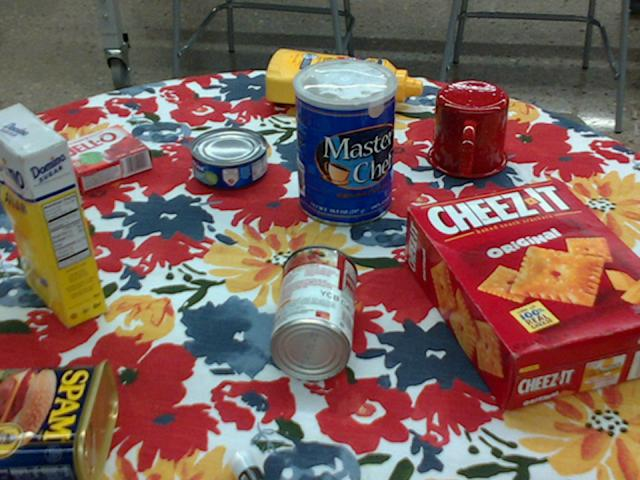cracker_box: (404, 179, 639, 413)
gelatin_box: (48, 127, 150, 194)
large_marker: (227, 449, 265, 479)
master_chef_can: (294, 59, 398, 227)
mug: (426, 81, 509, 179)
mustard_bottle: (264, 49, 421, 109)
potted_meat_can: (0, 358, 117, 479)
sugar_box: (0, 101, 105, 327)
tomato_soup_can: (270, 244, 356, 381)
tuna_fish_can: (188, 127, 266, 190)
